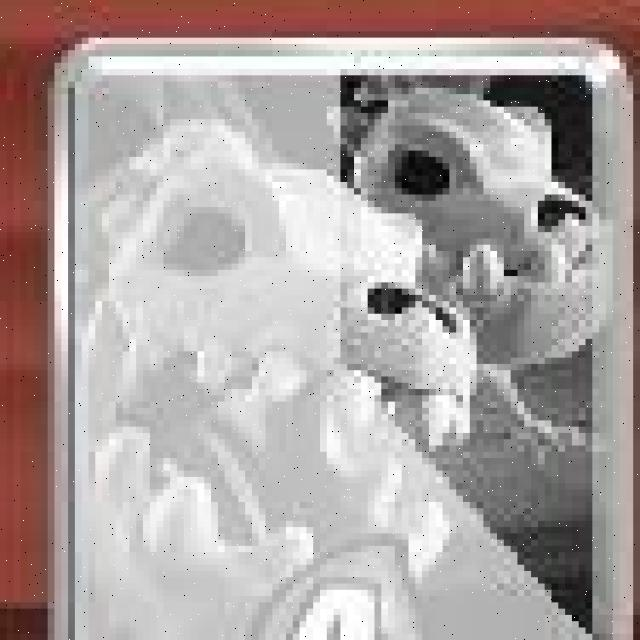Skeleton_Dragons: (55, 41, 623, 640)
